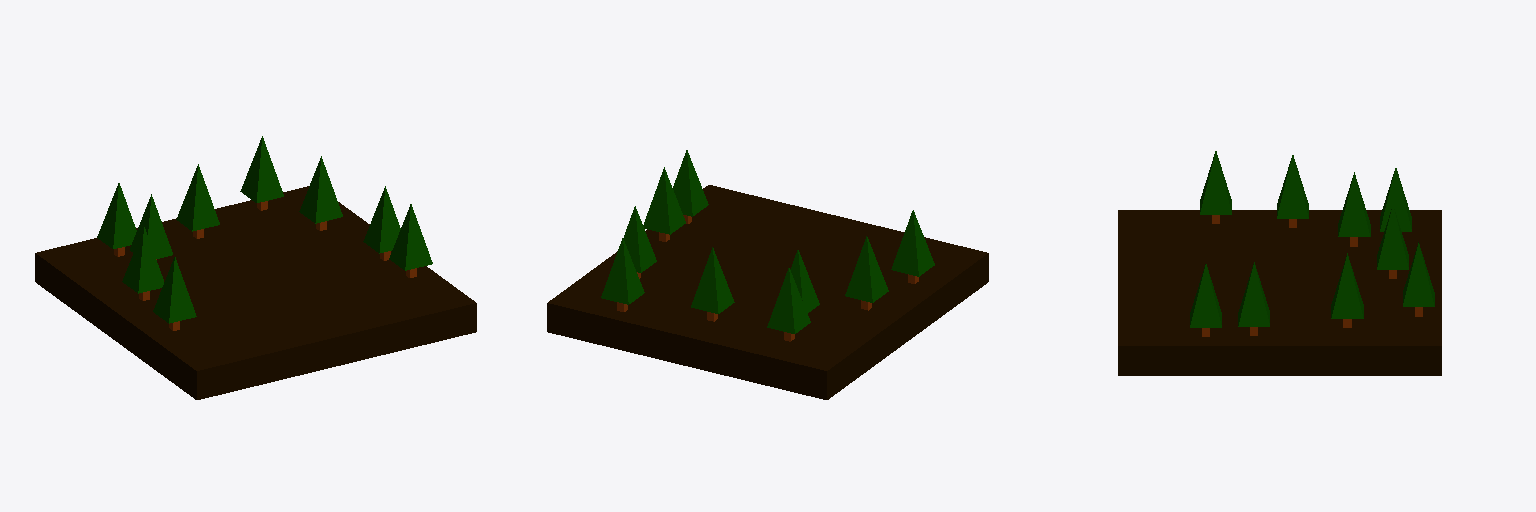
File: Forest2.obj
3 views of the same model, side by side, from view 1: azimuth 30°, elevation 25°; view 2: azimuth 150°, elevation 25°; view 3: azimuth 270°, elevation 25° (orthographic).
Parts seen in each view (by area): view 1: Tilebase146, Pyramid486, Pyramid489, Pyramid494, Pyramid496, Pyramid497, Pyramid492, Pyramid491, Pyramid493, Pyramid490; view 2: Tilebase146, Pyramid492, Pyramid496, Pyramid497, Pyramid491, Pyramid489, Pyramid493, Pyramid494, Pyramid486, Pyramid490; view 3: Tilebase146, Pyramid486, Pyramid489, Pyramid492, Pyramid494, Pyramid490, Pyramid493, Pyramid497, Pyramid496, Pyramid491.
Boxes of the visible parts, x1,y1,x2,y2 form: Tilebase146: [35, 186, 476, 399]; Pyramid486: [299, 156, 342, 223]; Pyramid489: [176, 164, 219, 231]; Pyramid494: [389, 204, 432, 270]; Pyramid496: [240, 136, 283, 202]; Pyramid497: [153, 257, 196, 323]; Pyramid492: [122, 227, 163, 293]; Pyramid491: [97, 183, 136, 248]; Pyramid493: [363, 186, 400, 253]; Pyramid490: [130, 194, 172, 258]; Tilebase146: [547, 185, 988, 399]; Pyramid492: [845, 236, 888, 302]; Pyramid496: [601, 238, 644, 304]; Pyramid497: [891, 210, 934, 276]; Pyramid491: [767, 268, 810, 333]; Pyramid489: [691, 247, 734, 313]; Pyramid493: [643, 167, 685, 234]; Pyramid494: [673, 150, 708, 216]; Pyramid486: [623, 206, 656, 272]; Pyramid490: [790, 250, 819, 312]; Tilebase146: [1118, 210, 1441, 375]; Pyramid486: [1331, 253, 1363, 318]; Pyramid489: [1377, 206, 1408, 269]; Pyramid492: [1277, 155, 1308, 218]; Pyramid494: [1190, 264, 1221, 327]; Pyramid490: [1338, 172, 1370, 236]; Pyramid493: [1238, 262, 1269, 326]; Pyramid497: [1200, 151, 1231, 214]; Pyramid496: [1403, 242, 1434, 306]; Pyramid491: [1380, 168, 1411, 231].
Bounding box in the file's own units: 10 × 3.5 × 10.